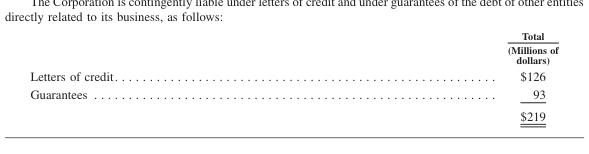table: (29, 29, 557, 122)
table column: (29, 29, 311, 122), (311, 29, 557, 122)
table column header: (29, 29, 557, 66)
table row: (29, 29, 557, 66), (29, 66, 557, 85), (29, 85, 557, 104), (29, 104, 557, 122)
